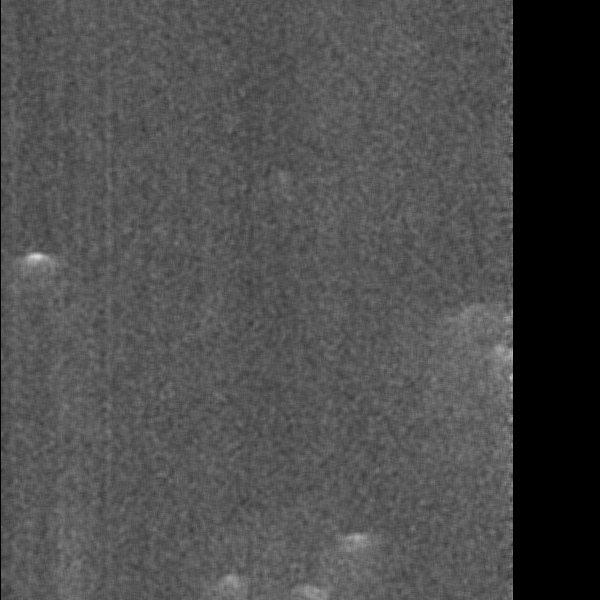spark: (333, 528, 375, 570), (290, 580, 337, 600), (453, 301, 475, 342), (19, 248, 52, 274), (220, 569, 245, 599)
